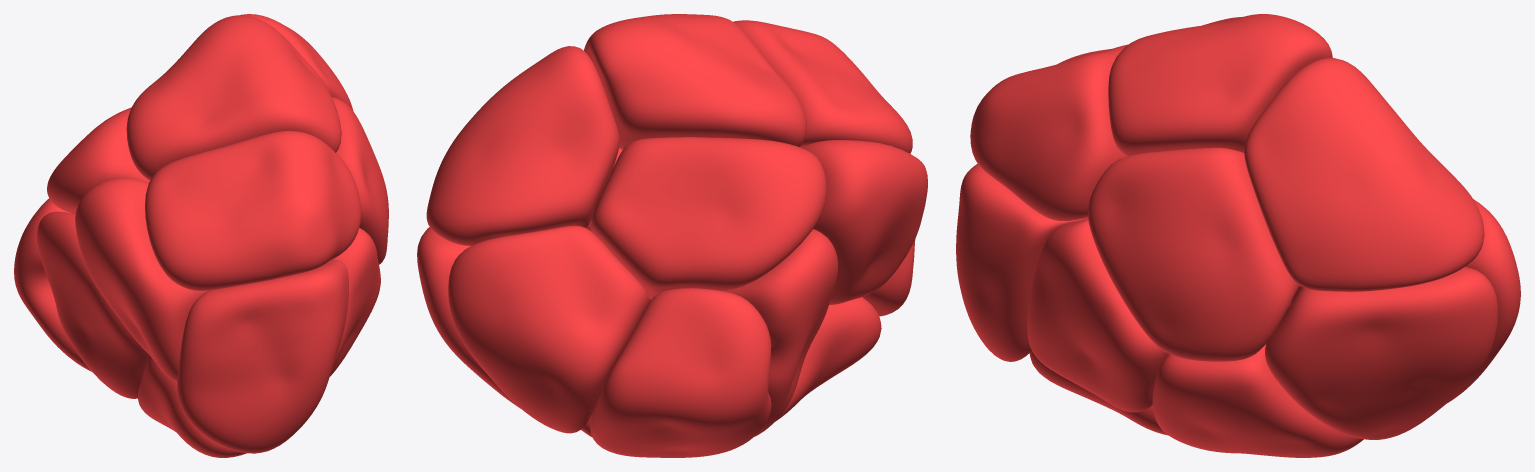
3 renders of one model, left to right at view 1: azimuth 30°, elevation 25°; view 2: azimuth 150°, elevation 25°; view 3: azimuth 270°, elevation 25°, orthographic. The views are drawn at different scales.
Visible parts, largest first — view 1: a6.011, a6.008, a6.007, a6.002, a6.012, a6.013, a6.014, a6.003, a6.006, a6.005, a6.001; view 2: a6.013, a6.004, a6.001, a6.003, a6.007, a6.002, a6.011, a6.012, a6.005, a6.009, a6.008; view 3: a6.001, a6.014, a6.009, a6.007, a6.011, a6.006, a6.010, a6.008, a6.004, a6.005.
Boxes of the visible parts, x1,y1,x2,y2 form: a6.011: [145, 130, 361, 290]; a6.008: [177, 259, 348, 453]; a6.007: [126, 15, 341, 180]; a6.002: [75, 178, 207, 381]; a6.012: [37, 211, 149, 398]; a6.013: [47, 107, 149, 213]; a6.014: [332, 97, 388, 264]; a6.003: [14, 198, 91, 371]; a6.006: [330, 227, 380, 376]; a6.005: [138, 356, 246, 457]; a6.001: [240, 14, 353, 110]; a6.013: [589, 137, 826, 299]; a6.004: [448, 225, 648, 433]; a6.001: [426, 46, 619, 245]; a6.003: [590, 288, 771, 457]; a6.007: [584, 14, 806, 150]; a6.002: [800, 140, 927, 304]; a6.011: [733, 20, 912, 153]; a6.012: [648, 229, 838, 436]; a6.005: [775, 297, 881, 421]; a6.009: [417, 227, 520, 408]; a6.008: [863, 239, 915, 316]; a6.001: [1244, 58, 1484, 291]; a6.014: [1088, 147, 1301, 361]; a6.009: [1265, 267, 1497, 439]; a6.007: [1108, 14, 1332, 156]; a6.011: [970, 44, 1128, 220]; a6.006: [1027, 219, 1168, 412]; a6.010: [1152, 303, 1363, 457]; a6.008: [956, 164, 1088, 361]; a6.004: [1447, 199, 1520, 403]; a6.005: [1029, 351, 1168, 435].
Bounding box in the file's own units: 341 × 366 × 428.
